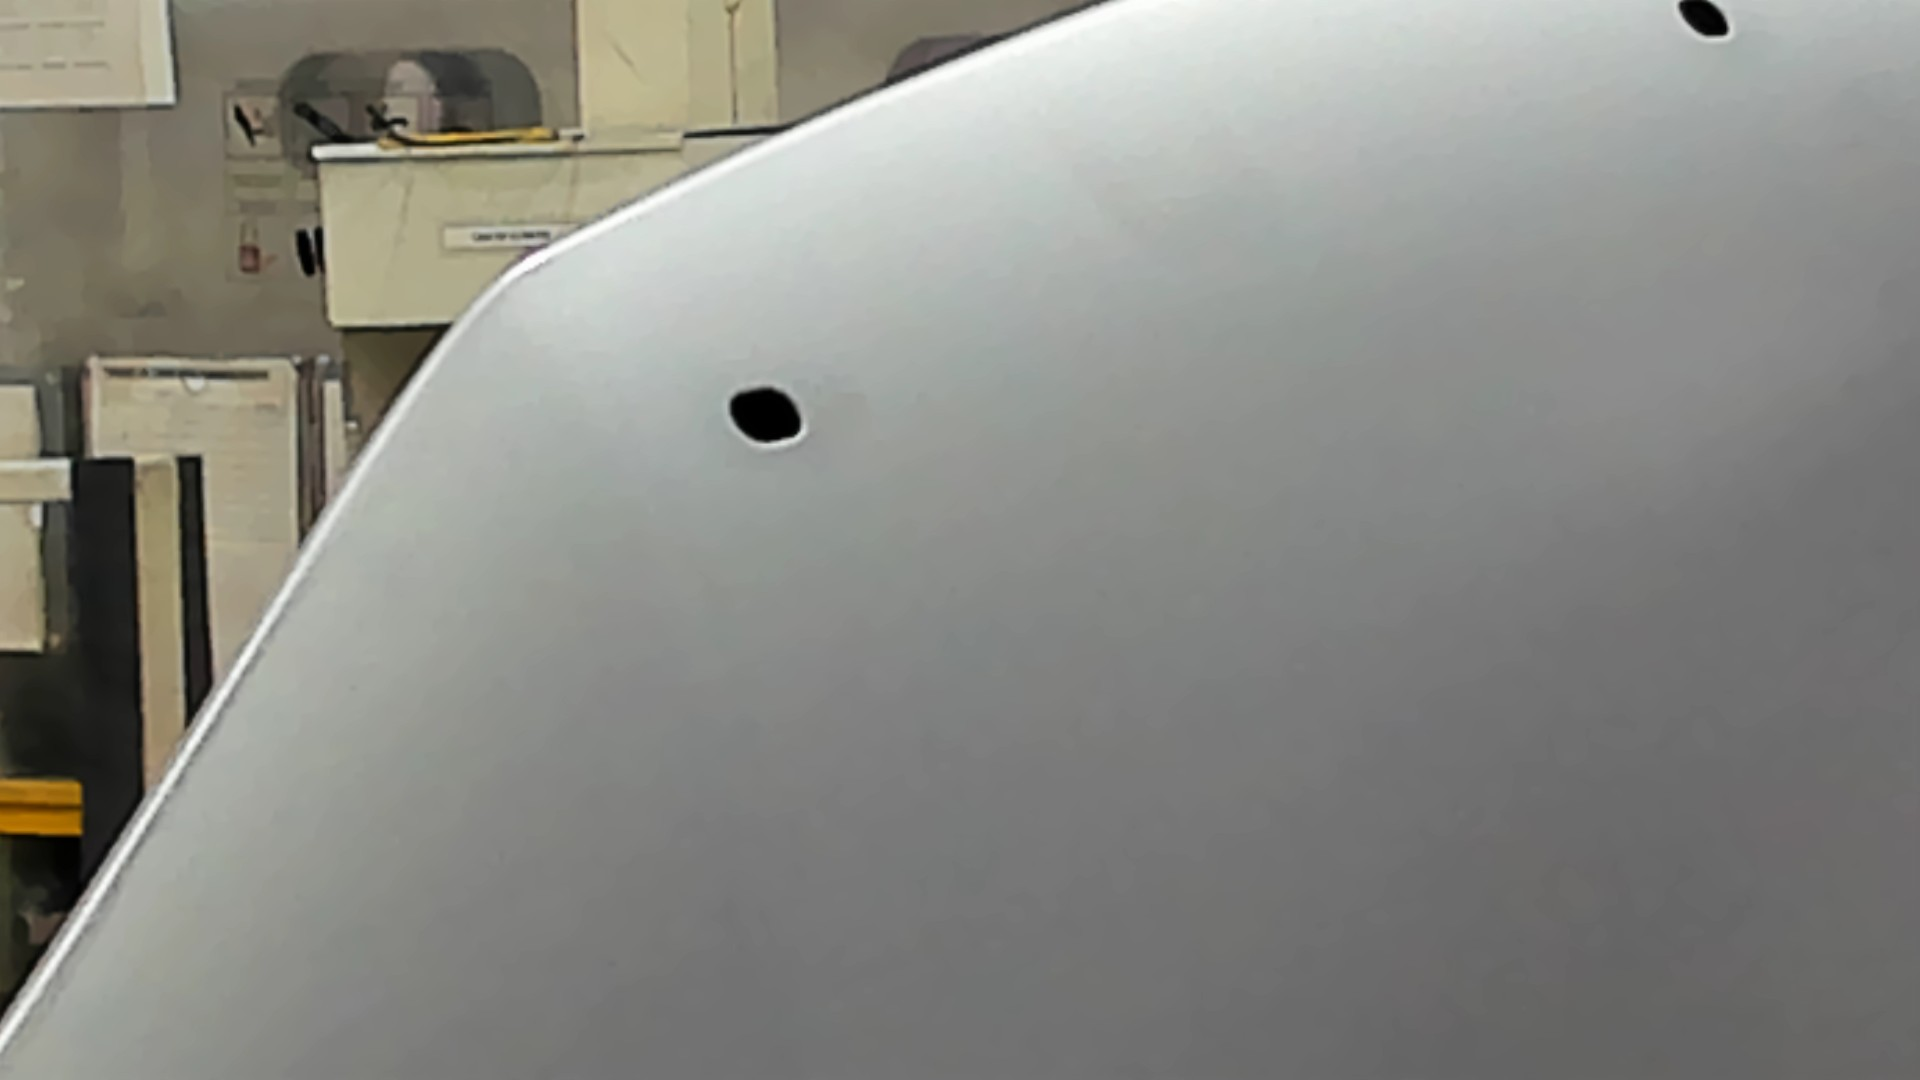Agujero: (723, 381, 808, 450), (1671, 1, 1737, 42)
